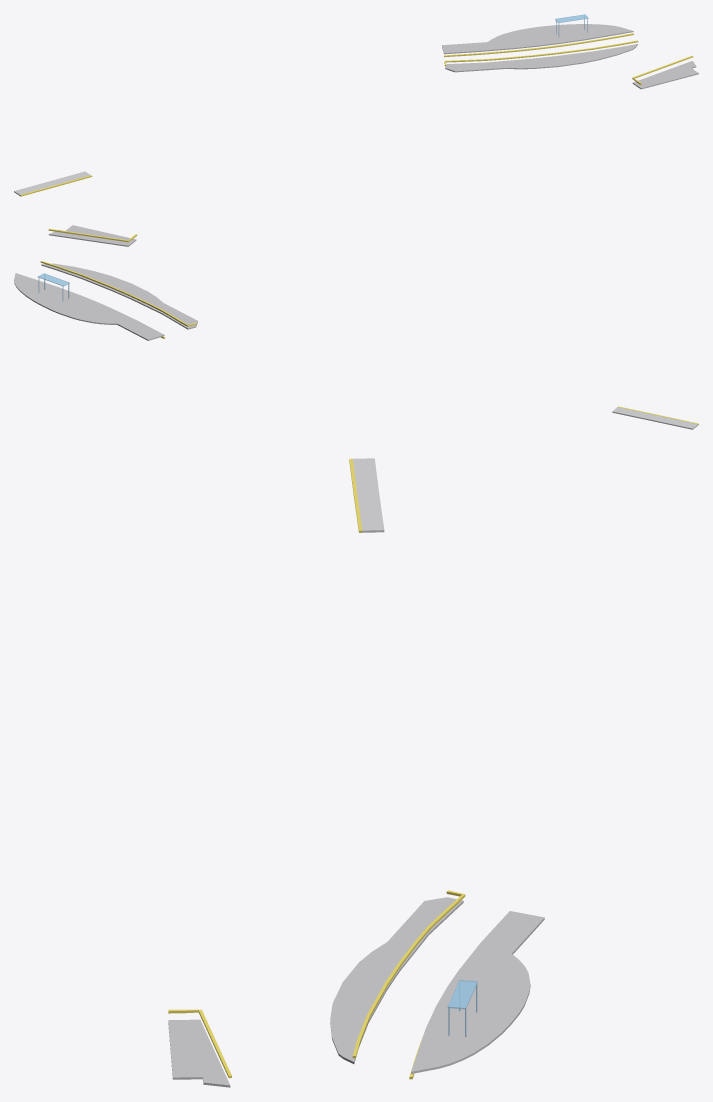
File: 8589003-bern-thunplatz.glb
3 renders of one model, top to bottom at view 1: azimuth 30°, elevation 25°; view 2: azimuth 150°, elevation 25°; view 3: azimuth 270°, elevation 25°, orthographic. The views are drawn at different scales.
Parts seen in each view (by area): view 1: platform_surface@0, boarding_edge@0, platform_body@0; view 2: platform_surface@0, boarding_edge@0, platform_body@0; view 3: platform_surface@0, boarding_edge@0, platform_body@0.
Part boxes in pixels (<box>): platform_surface@0: <box>442,24,698,89</box>; boarding_edge@0: <box>20,33,693,196</box>; platform_body@0: <box>14,171,90,195</box>; platform_surface@0: <box>14,225,197,340</box>; boarding_edge@0: <box>40,228,698,424</box>; platform_body@0: <box>612,407,698,429</box>; platform_surface@0: <box>168,897,544,1087</box>; boarding_edge@0: <box>168,458,465,1079</box>; platform_body@0: <box>352,458,384,532</box>.
Size of the model in its own units: 156 by 4.35 by 39.59.
